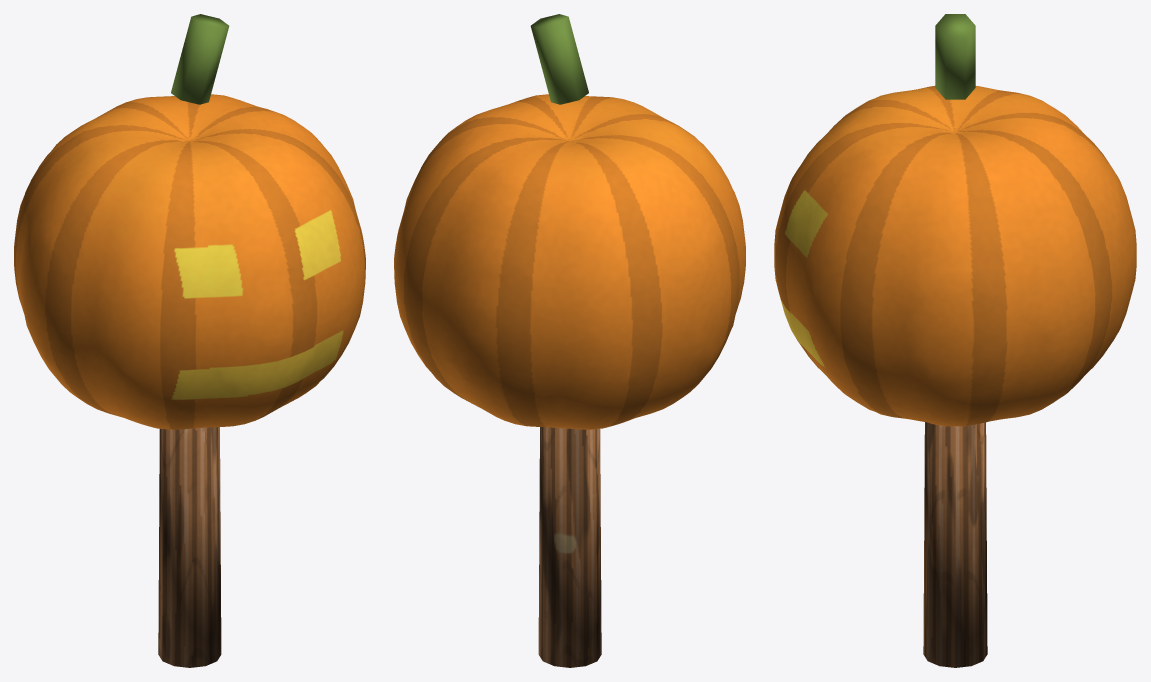
Rendered from pumpkin_lantern.glb.
3 renders of one model, left to right at view 1: azimuth 30°, elevation 25°; view 2: azimuth 150°, elevation 25°; view 3: azimuth 270°, elevation 25°, orthographic.
Visible parts, largest first — view 1: PumpkinLantern; view 2: PumpkinLantern; view 3: PumpkinLantern.
Part boxes in pixels (bbox=[...]): PumpkinLantern: bbox=[14, 14, 365, 667]; PumpkinLantern: bbox=[394, 14, 745, 667]; PumpkinLantern: bbox=[774, 14, 1136, 667].
Bounding box in the file's own units: 0.4511 × 0.8862 × 0.4525.
1 material, 1 textured.
